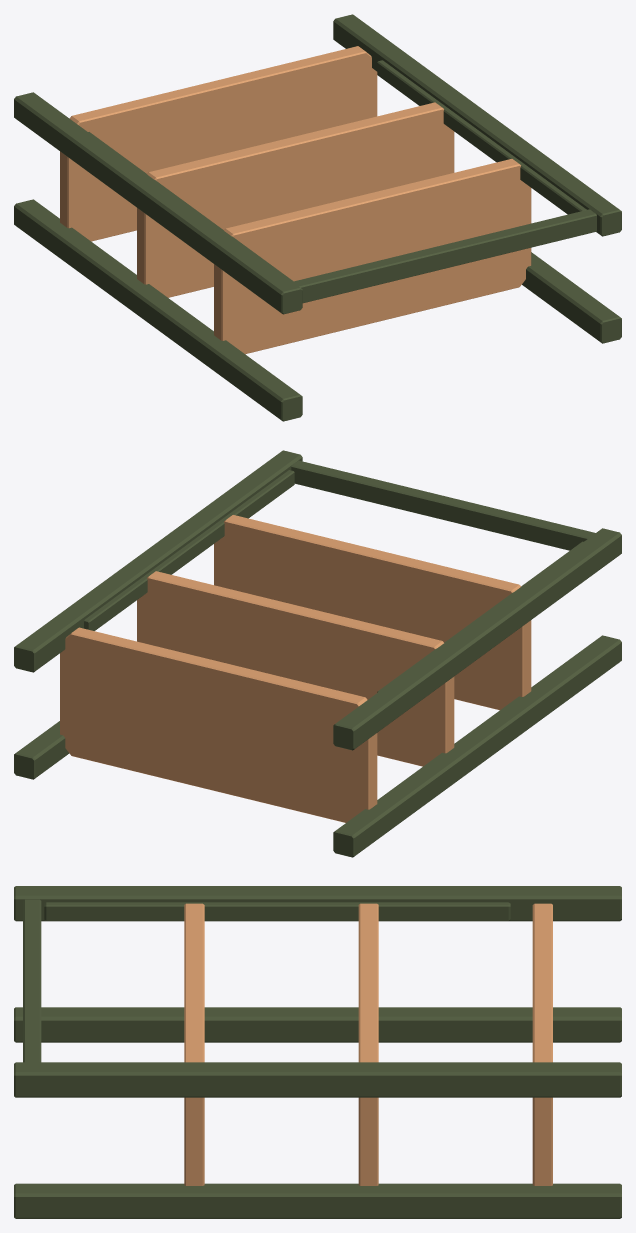
File: fixture_15_homeware_shelf.glb
3 renders of one model, top to bottom at view 1: azimuth 30°, elevation 25°; view 2: azimuth 150°, elevation 25°; view 3: azimuth 270°, elevation 25°, orthographic. The views are drawn at different scales.
Parts seen in each view (by area): view 1: fixture_15_homeware_shelf; view 2: fixture_15_homeware_shelf; view 3: fixture_15_homeware_shelf.
Part boxes in pixels (<box>): fixture_15_homeware_shelf: <box>14,14,621,421</box>; fixture_15_homeware_shelf: <box>14,450,621,857</box>; fixture_15_homeware_shelf: <box>14,886,621,1218</box>.
Size of what is drawn, in the model's own units: 1.1 by 0.4 by 1.5.
